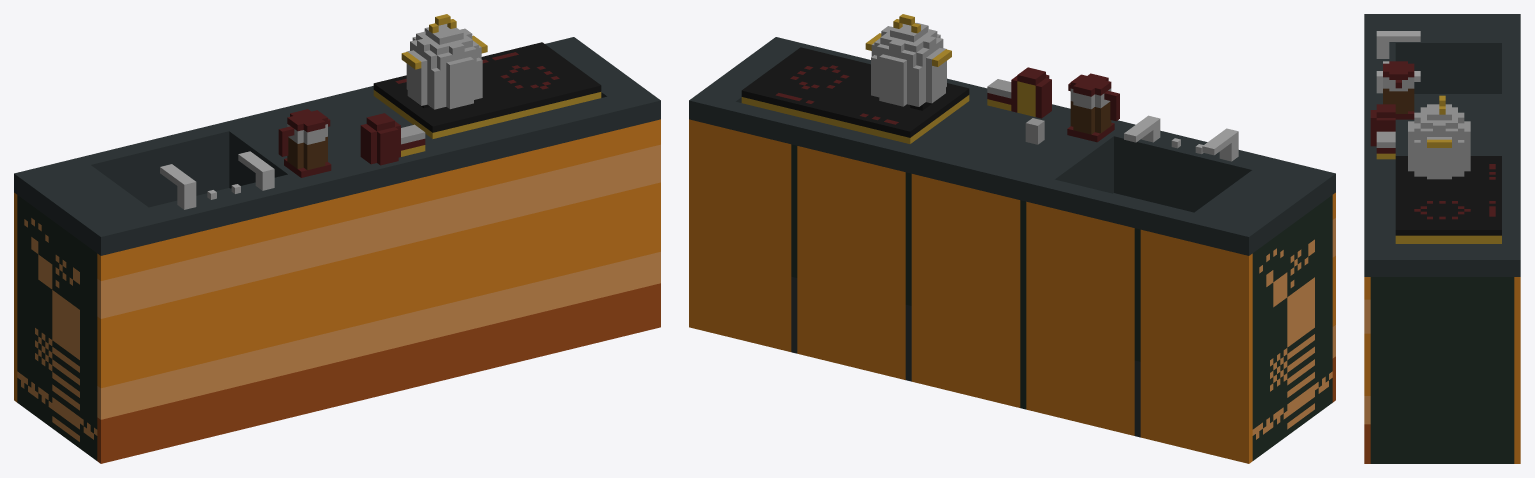
File: Nha-13.obj
3 views of the same model, side by side, from view 1: azimuth 30°, elevation 25°; view 2: azimuth 150°, elevation 25°; view 3: azimuth 270°, elevation 25° (orthographic). The views are drawn at different scales.
Size of the model in its own units: 9.3 by 5.1 by 2.5.
1 material, 1 textured.
